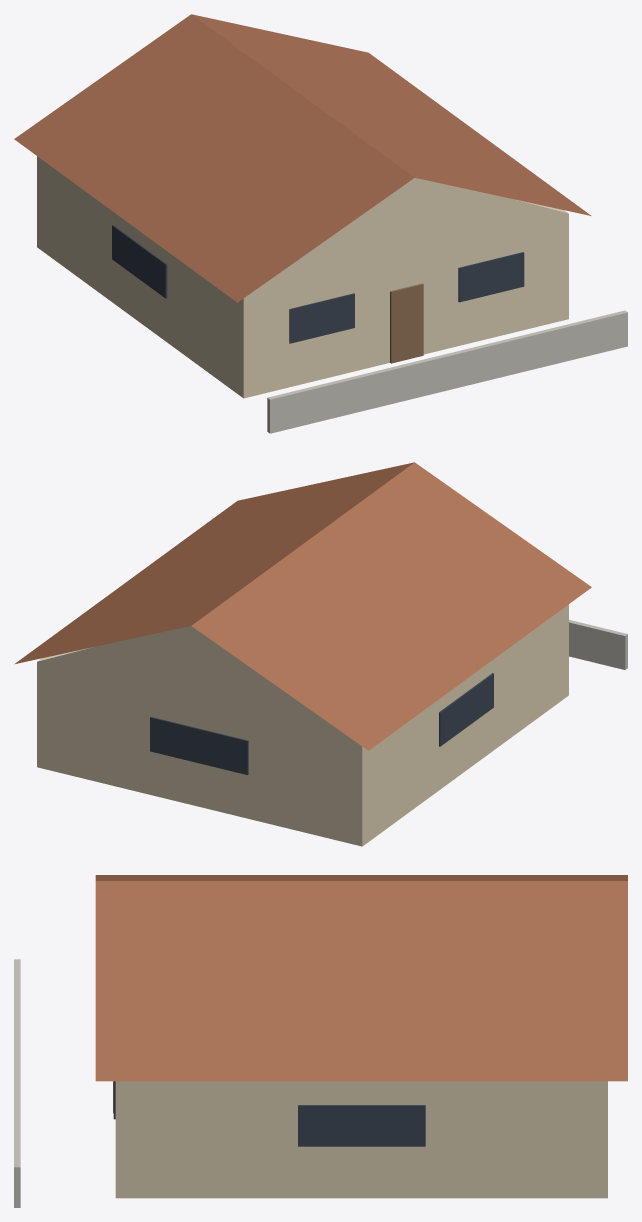
File: casa_1.glb
The picture shows the model from 3 angles, top to bottom: view 1: azimuth 30°, elevation 25°; view 2: azimuth 150°, elevation 25°; view 3: azimuth 270°, elevation 25°; orthographic projection. The views are drawn at different scales.
Visible parts, largest first — view 1: t, w, mu, j, por; view 2: t, w, j, mu; view 3: t, w, j, mu.
Part boxes in pixels (box(x1,y1,x2,y2)): t: box(14, 14, 591, 302); w: box(37, 156, 568, 398); mu: box(267, 310, 627, 433); j: box(112, 225, 524, 343); por: box(390, 283, 423, 363); t: box(14, 462, 591, 750); w: box(37, 604, 568, 846); j: box(150, 673, 493, 774); mu: box(569, 619, 627, 669); t: box(95, 875, 627, 1081); w: box(115, 1081, 607, 1198); j: box(113, 1081, 425, 1146); mu: box(14, 959, 20, 1207).
Size of the model in its own units: 11 by 5.5 by 13.72.
